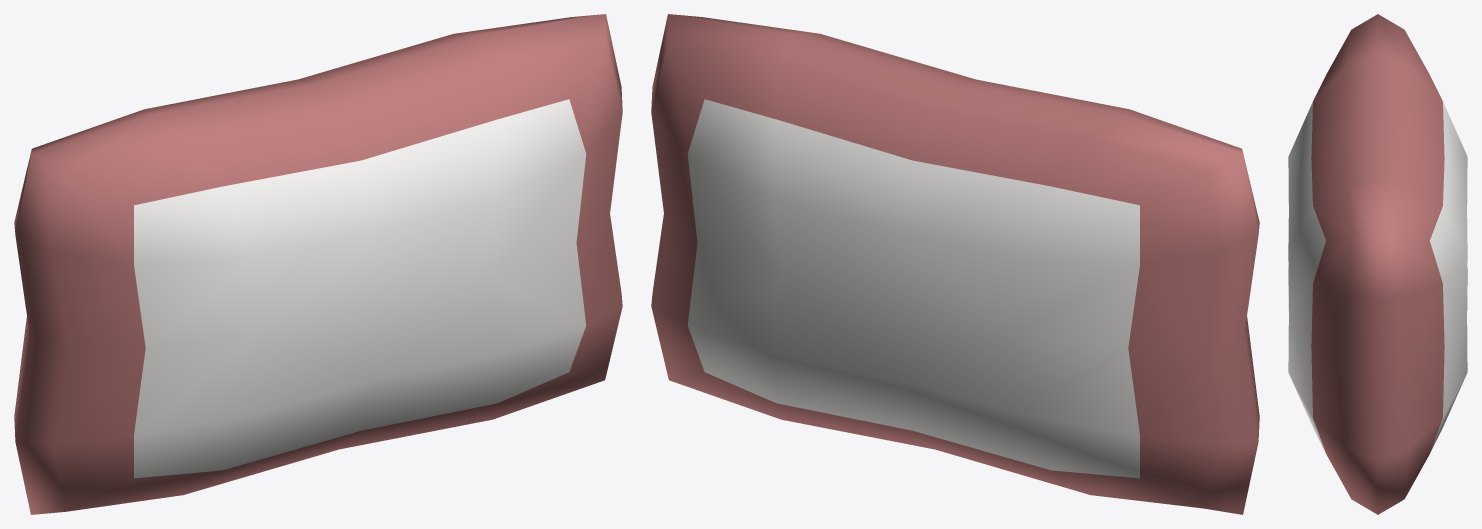
Rendered from Pillow_4.glb.
3 views of the same model, side by side, from view 1: azimuth 30°, elevation 25°; view 2: azimuth 150°, elevation 25°; view 3: azimuth 270°, elevation 25° (orthographic). The views are drawn at different scales.
Parts seen in each view (by area): view 1: Pillow_4; view 2: Pillow_4; view 3: Pillow_4.
Part boxes in pixels (box(x1,y1,x2,y2)): Pillow_4: box(14, 14, 622, 514); Pillow_4: box(651, 14, 1259, 514); Pillow_4: box(1288, 14, 1467, 514).
Bounding box in the file's own units: 0.7599 × 0.4554 × 0.249.
1 material, 1 textured.
